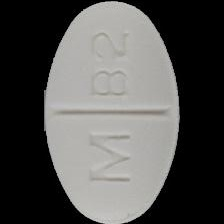50090-0737: (0, 0, 224, 224)
